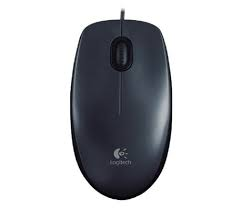mouse: (54, 7, 191, 204)
